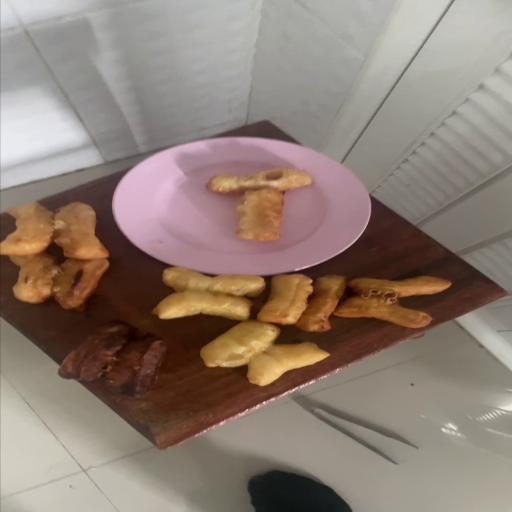street_burnt_defect: (55, 324, 166, 396), (3, 254, 107, 309)
street_golden_good: (3, 202, 110, 258)
